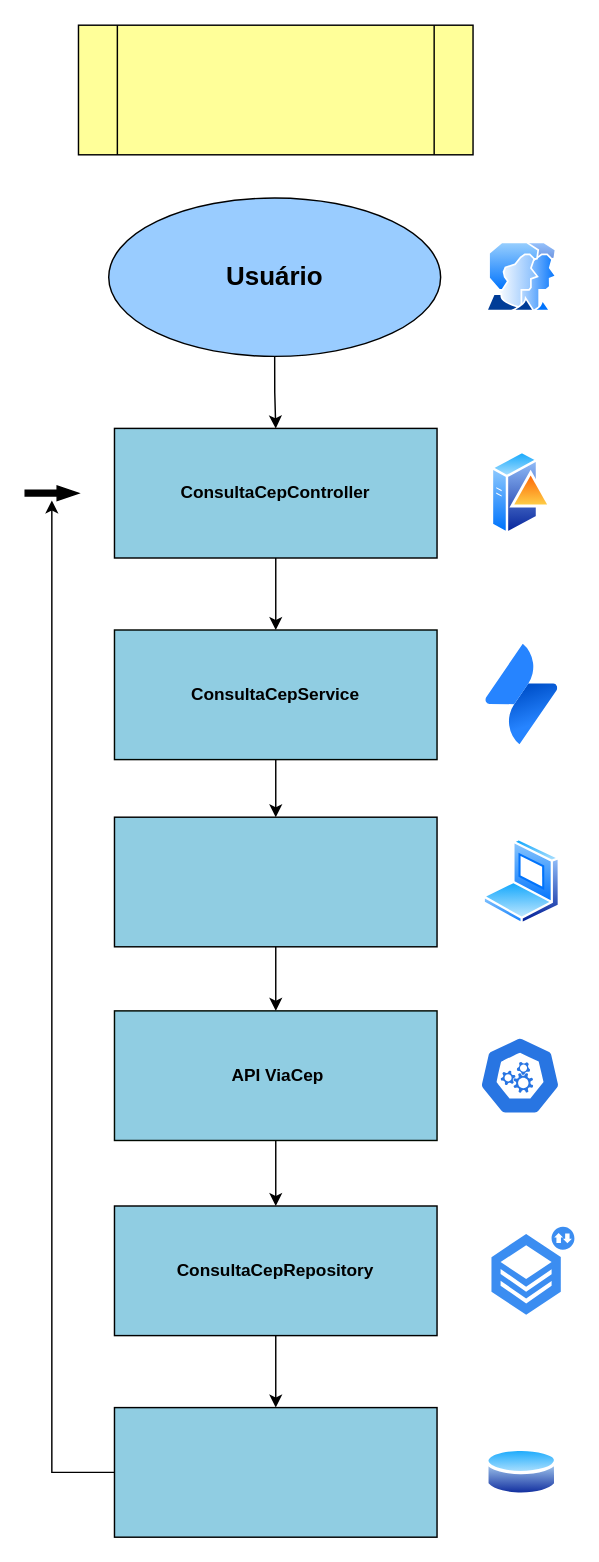
Some shapes in this 599 by 1562 pixel diagram are drawn without their labels. Each missing label, with the centre of its shape:
"Fluxo da Consulta de CEP" belongs at point 275,89.
"PostgreSQL" belongs at point 275,1471.
"ViaCepClient" belongs at point 275,881.
